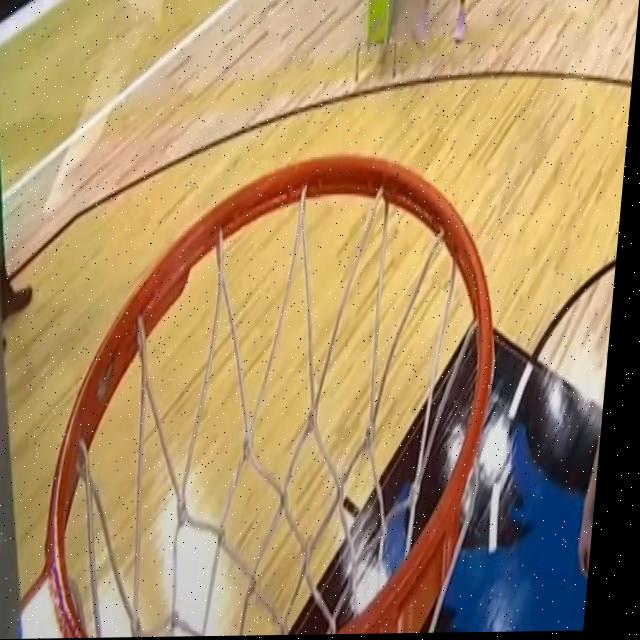hoop: (54, 213, 513, 638)
